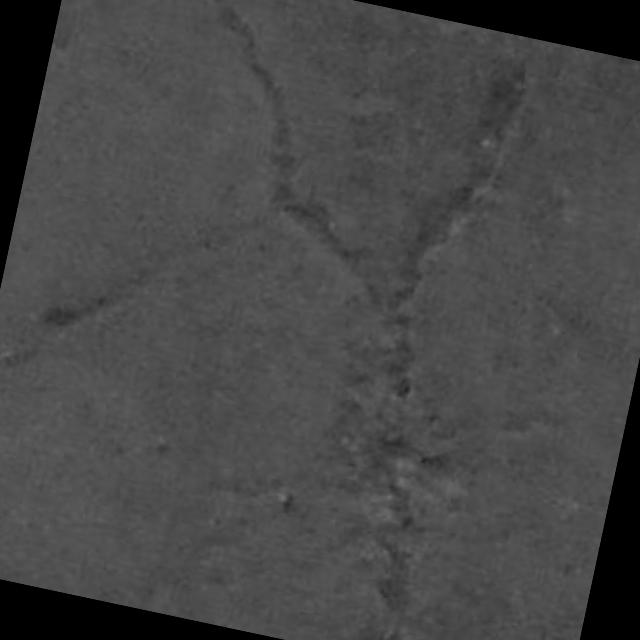crack: (210, 0, 374, 300), (388, 66, 525, 312)
